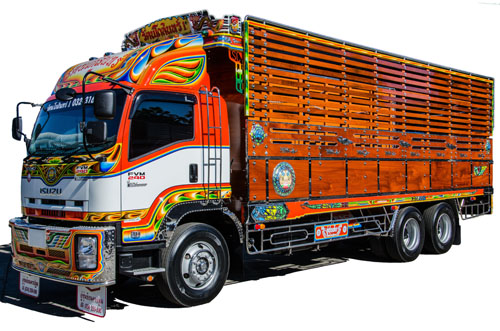truck: (9, 11, 235, 310)
